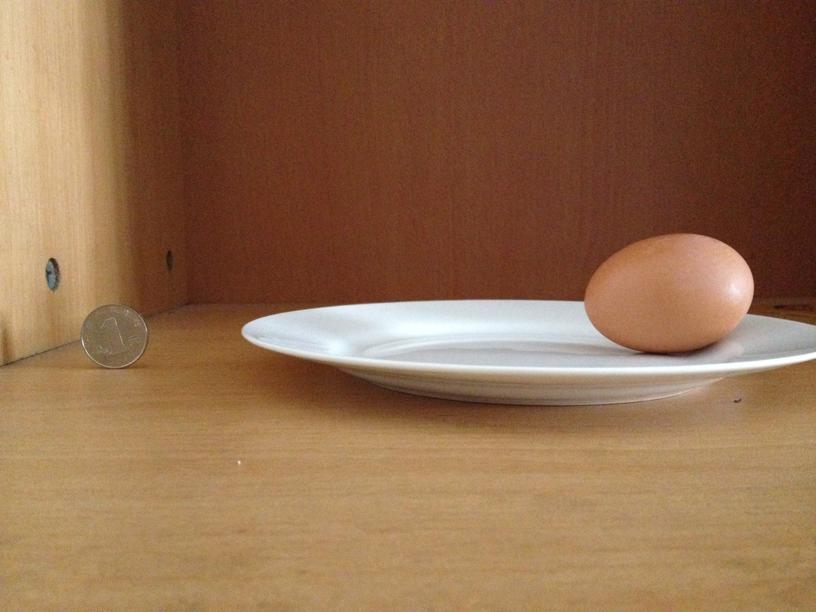coin: (78, 303, 149, 369)
egg: (578, 231, 755, 350)
